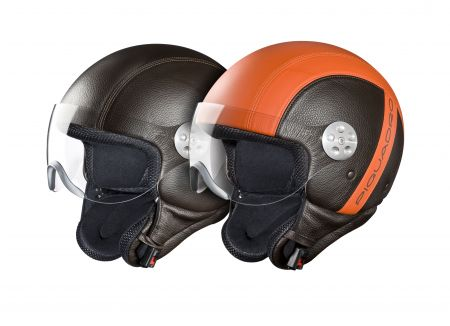helmet: (207, 52, 413, 247), (61, 49, 233, 255)
